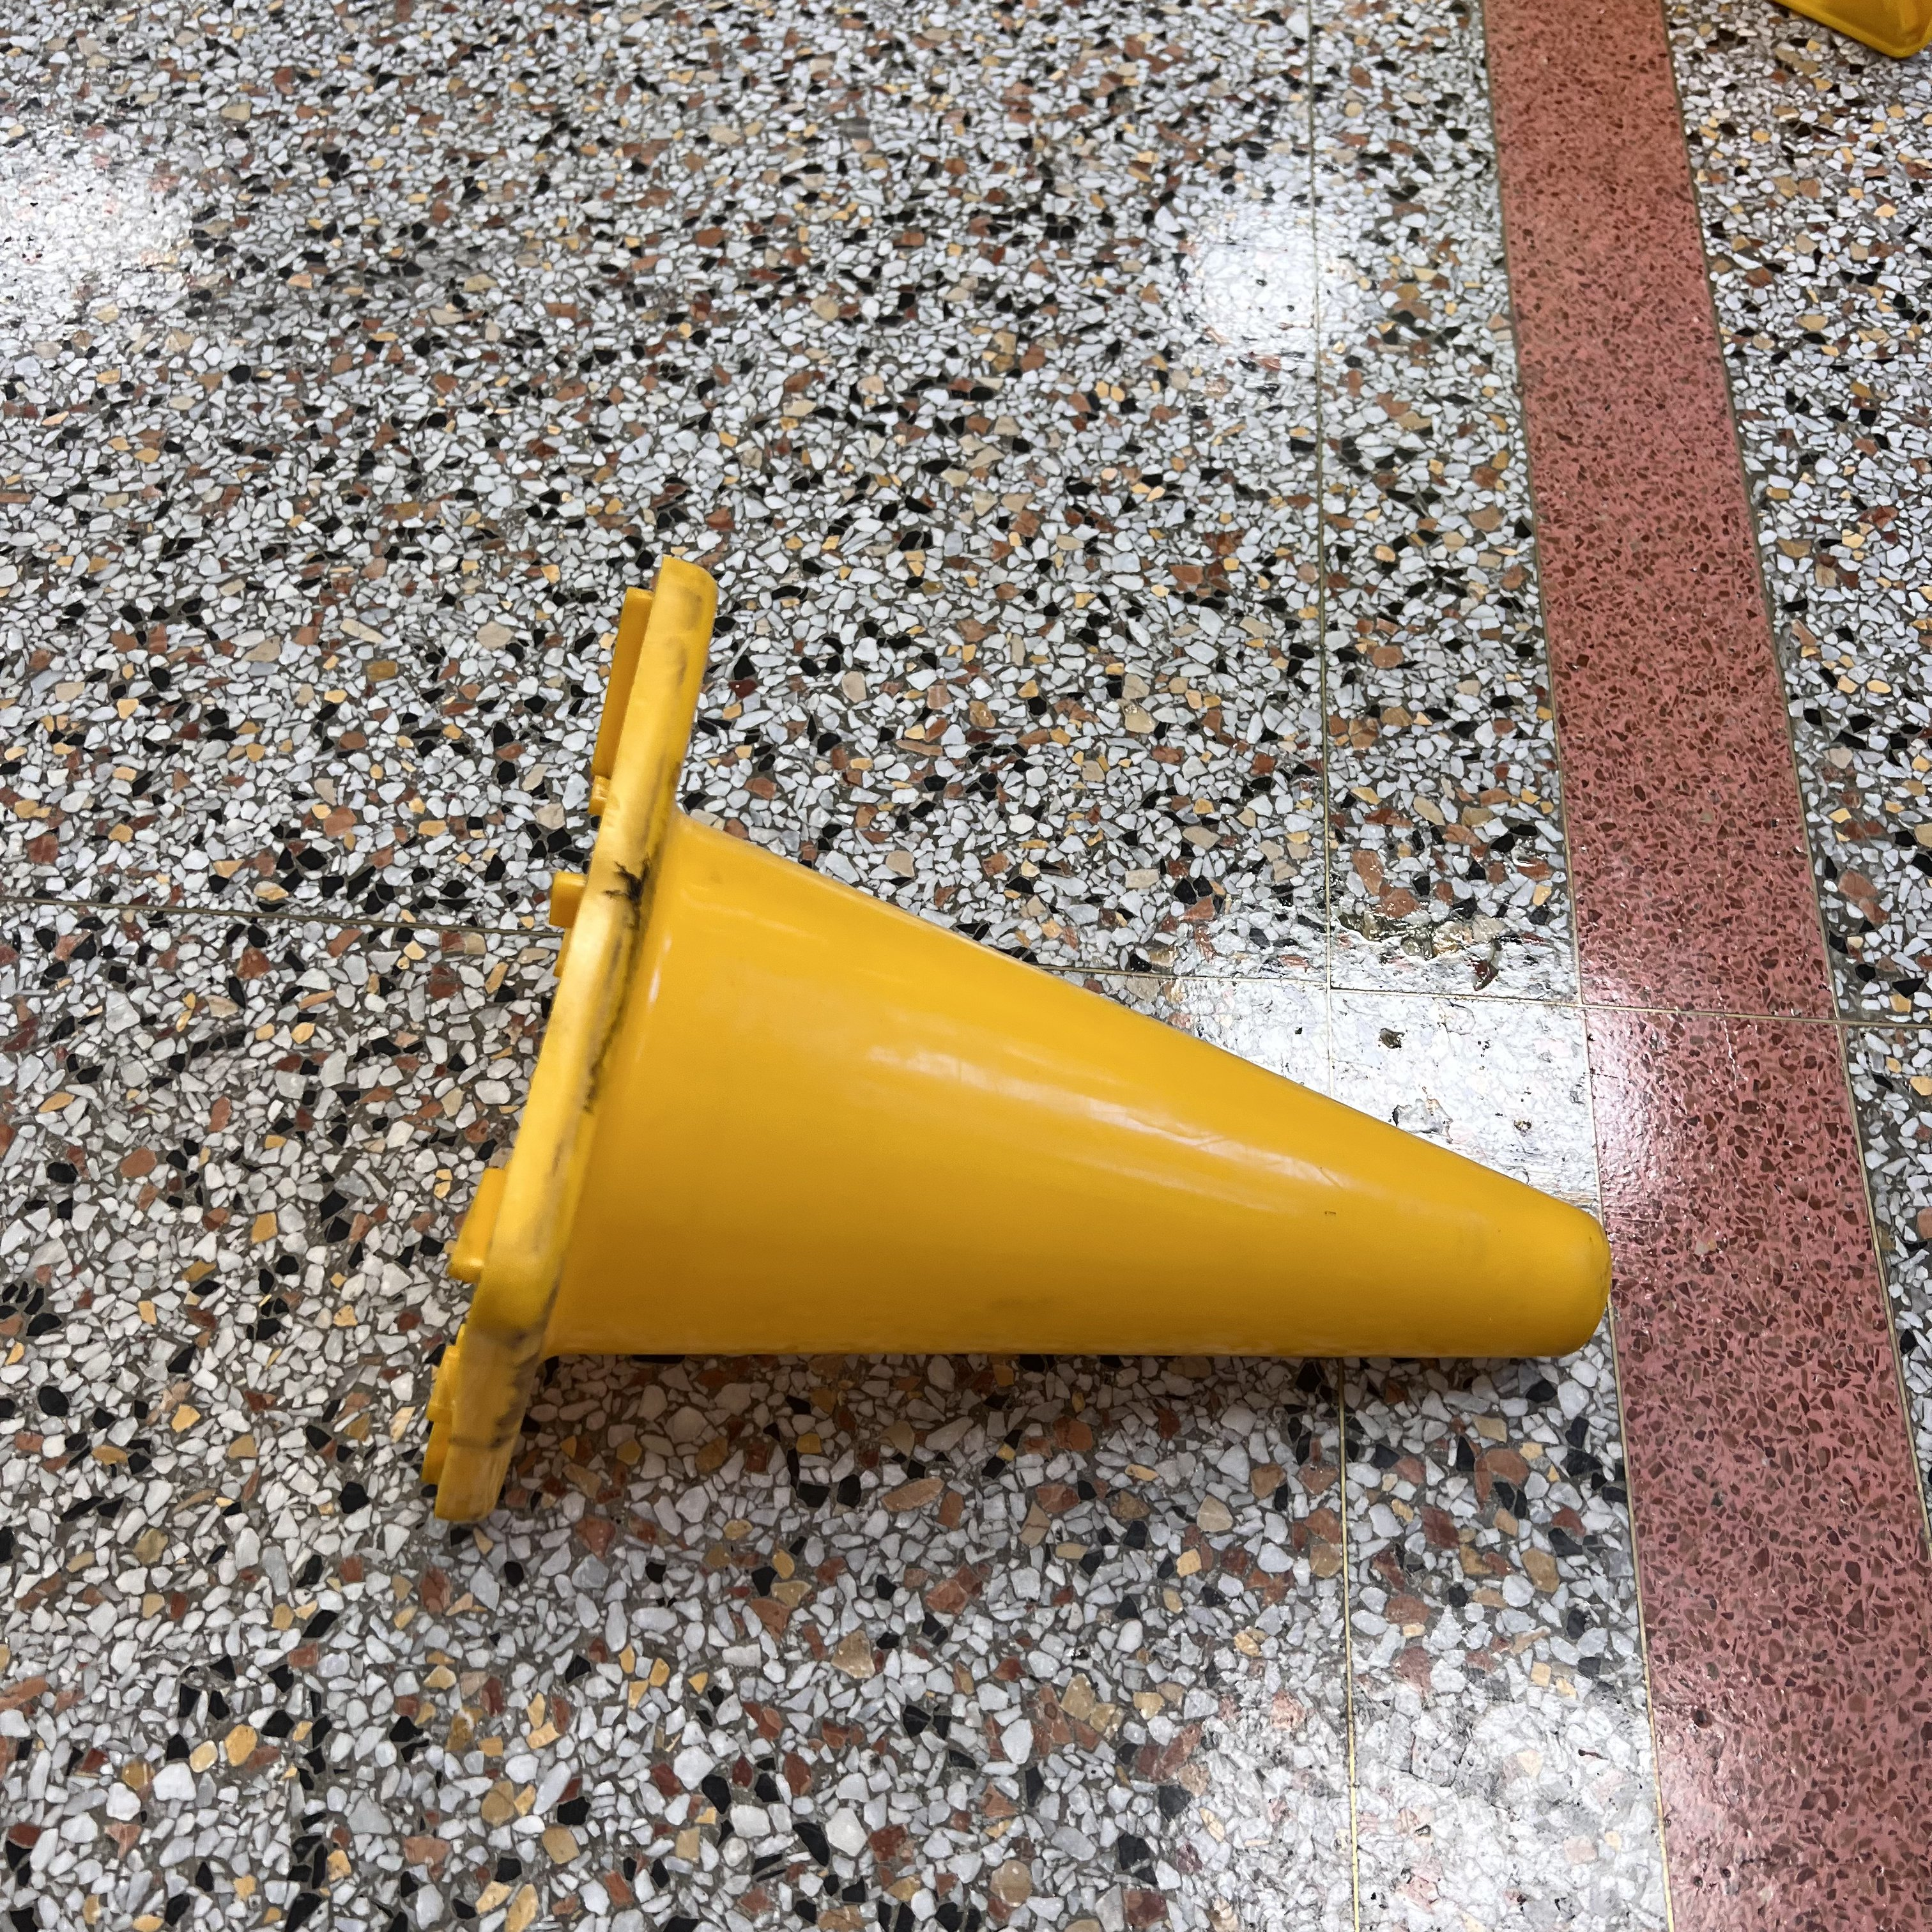cone: (419, 559, 1608, 1523)
